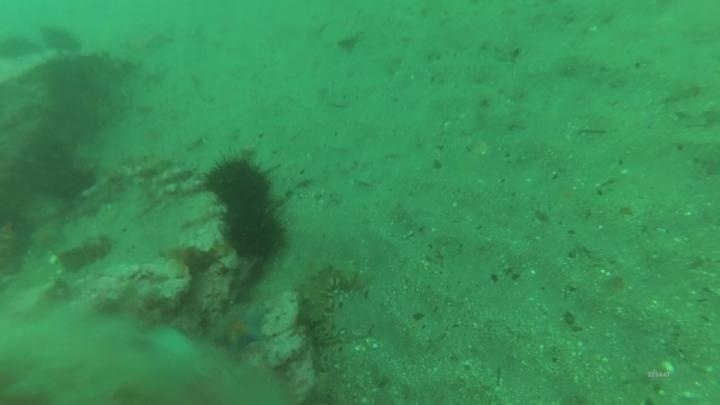echinus: (203, 151, 276, 211), (222, 204, 289, 263), (39, 18, 85, 52), (1, 28, 46, 62)
holothurian: (295, 256, 361, 336)
starfish: (208, 302, 270, 359), (26, 217, 69, 257)
